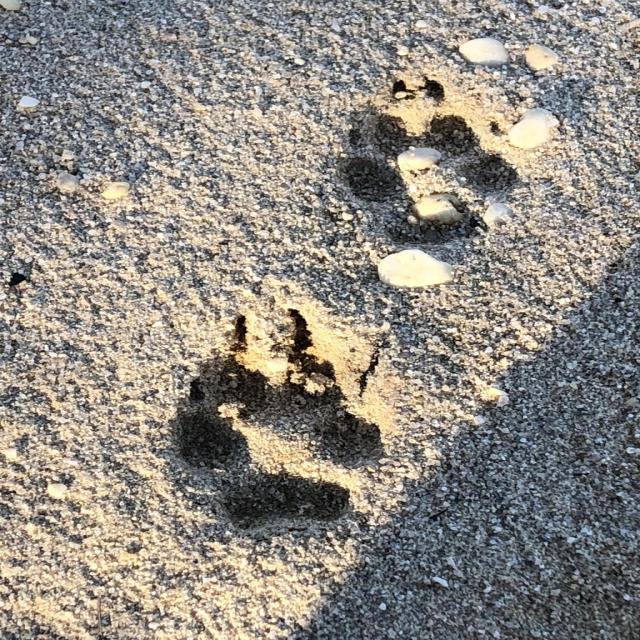canid: (162, 302, 392, 534), (342, 71, 518, 249)
